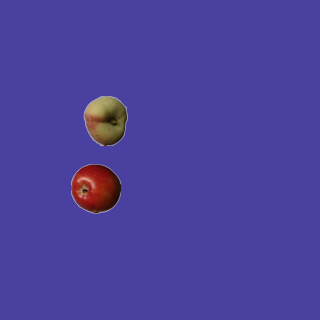Apple Braeburn: (70, 163, 120, 213)
Peach Flat: (80, 95, 130, 145)
